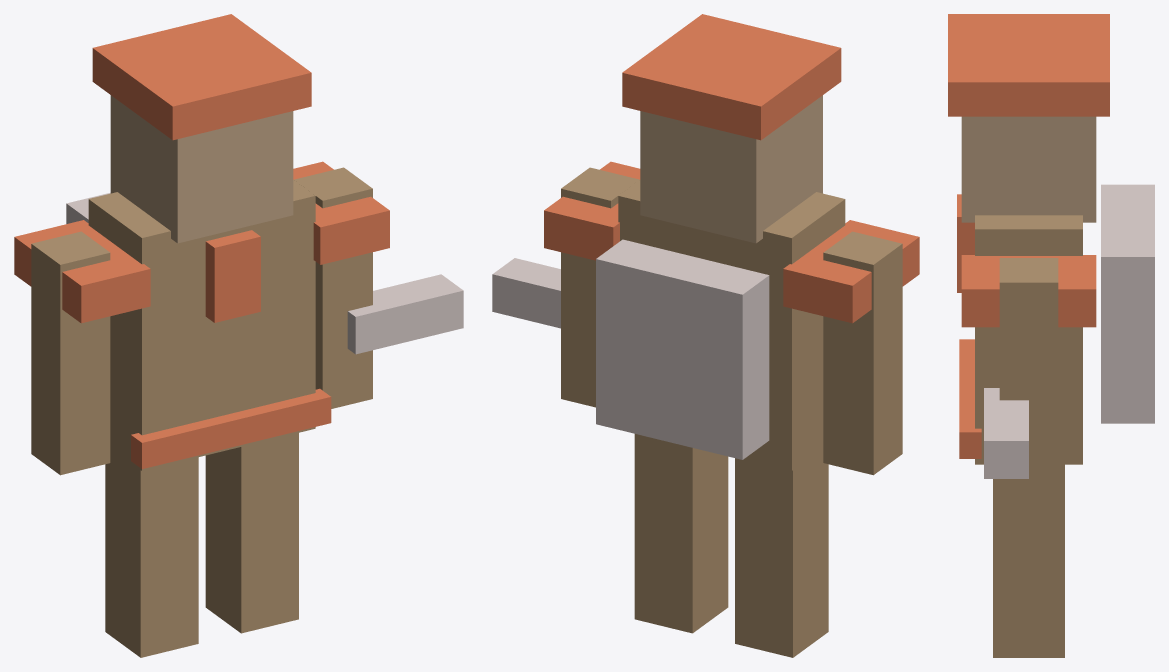
File: 10_auren_frostrelay_guide_of_deprecated.glb
3 views of the same model, side by side, from view 1: azimuth 30°, elevation 25°; view 2: azimuth 150°, elevation 25°; view 3: azimuth 270°, elevation 25° (orthographic).
Parts seen in each view (by area): view 1: Auren Frostrelay, Guide of Deprecated; view 2: Auren Frostrelay, Guide of Deprecated; view 3: Auren Frostrelay, Guide of Deprecated.
Part boxes in pixels (left/top/right/bottom): Auren Frostrelay, Guide of Deprecated: left=14, top=14, right=463, bottom=657; Auren Frostrelay, Guide of Deprecated: left=492, top=14, right=919, bottom=657; Auren Frostrelay, Guide of Deprecated: left=948, top=14, right=1154, bottom=657.
Bounding box in the file's own units: 1.07 × 1.47 × 0.4821.
